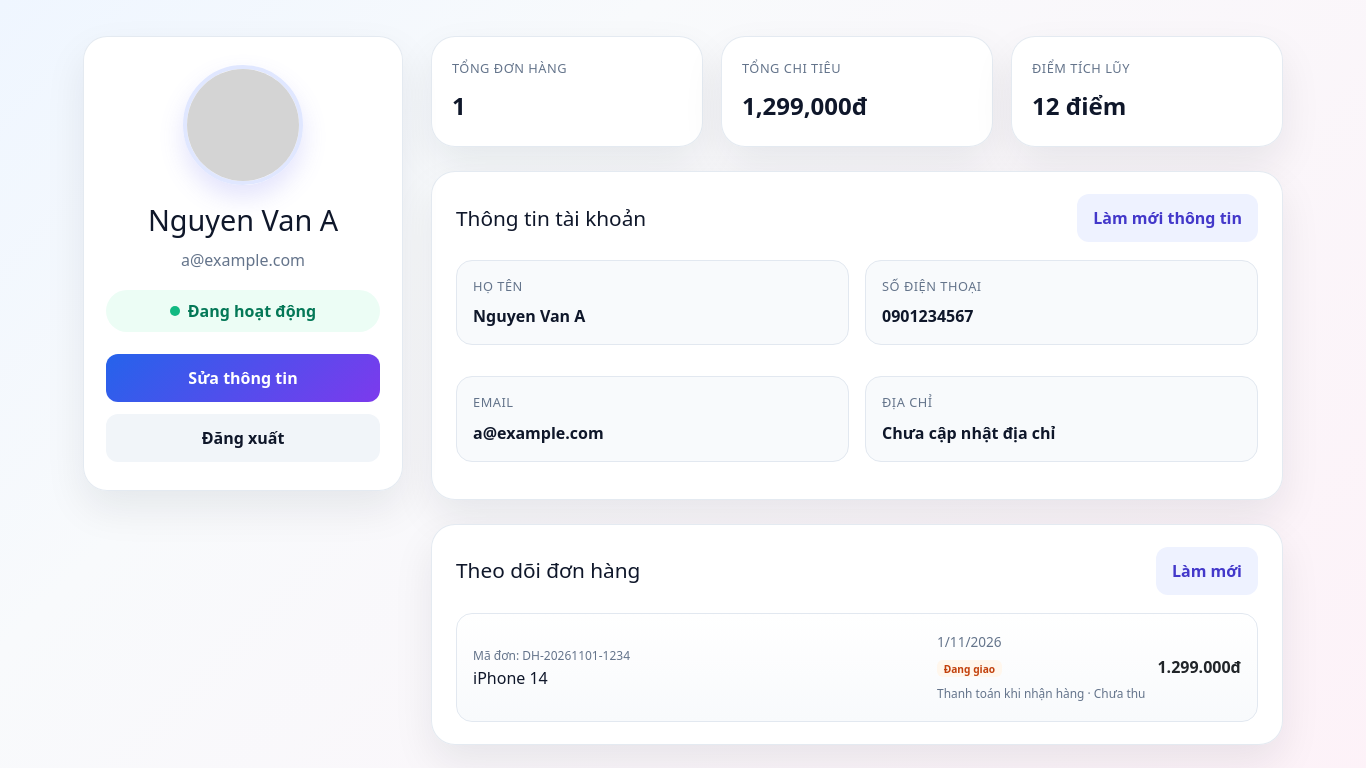
Test: shows current order status and refreshes the customer's orders
The width and height of the screenshot is (1366, 768).
Expected: the text "Đang giao" is shown, top-left (937, 660), bottom-right (1002, 677)
Expected: the text "Mã đơn: DH-20261101-1234" is shown, top-left (473, 647), bottom-right (630, 664)
Click the button "Làm mới".
click(1207, 571)  # box top-left (1156, 547), bottom-right (1258, 595)
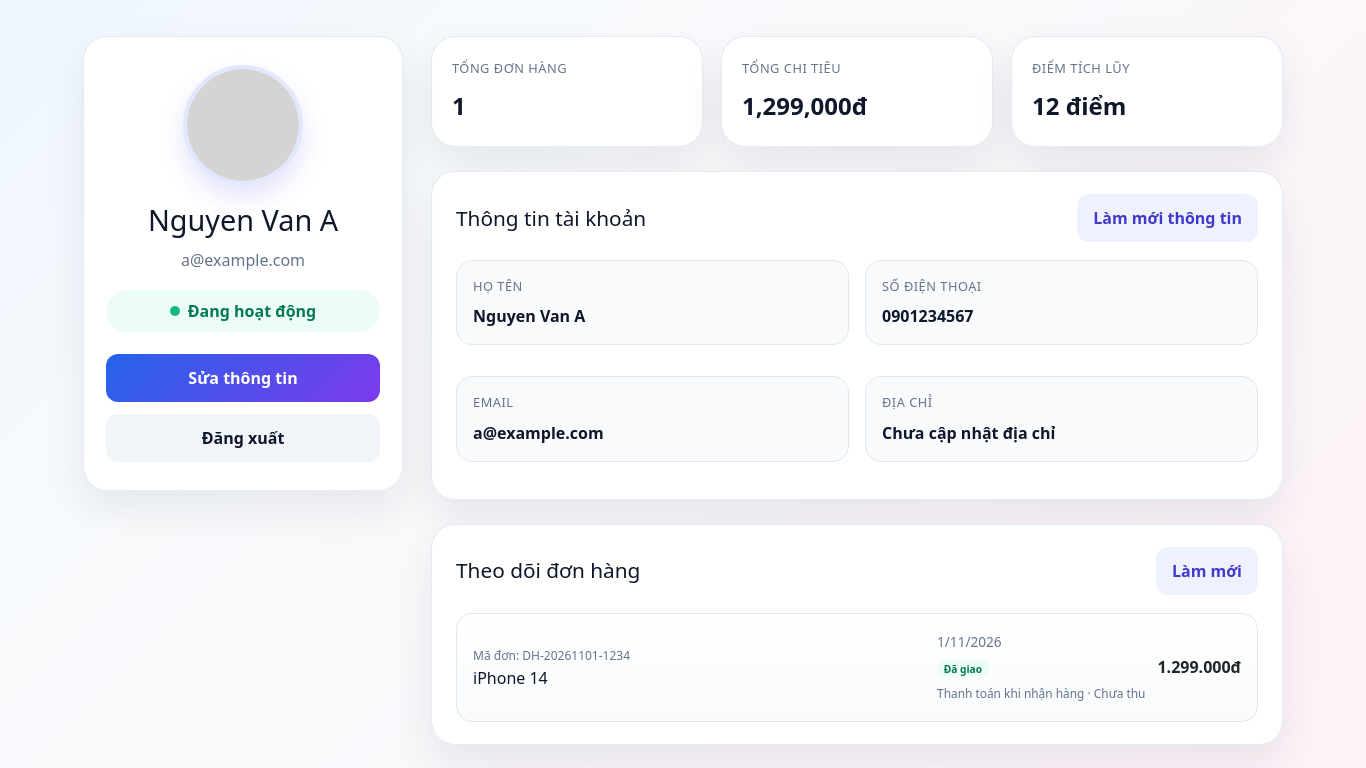
Expected: the text "Đã giao" is shown, top-left (937, 660), bottom-right (989, 677)
